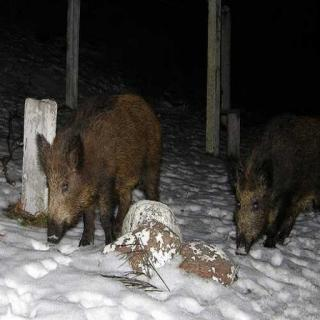Pig: (14, 92, 180, 262), (207, 103, 320, 247)
